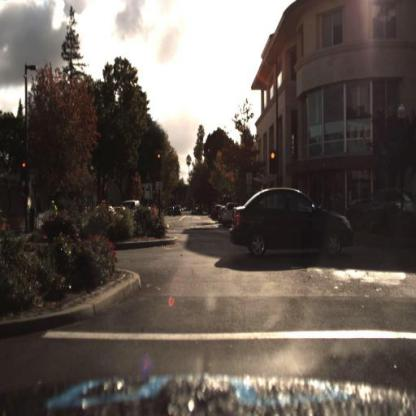biker: (44, 197, 62, 219), (48, 199, 58, 230)
car: (233, 188, 353, 262), (351, 187, 416, 234), (224, 201, 242, 228), (228, 201, 244, 229), (173, 206, 182, 218)
trafficLight: (21, 157, 29, 176)
trafficLight-Red: (155, 151, 163, 177), (269, 150, 277, 176), (156, 145, 163, 166)
